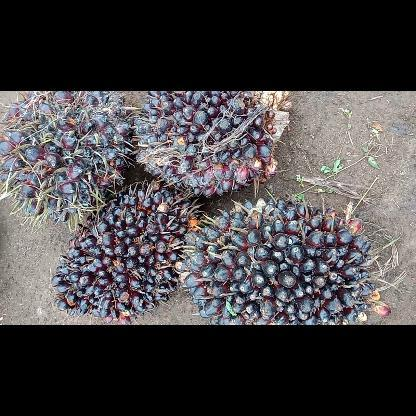TBS mentah: (174, 194, 392, 324), (48, 184, 202, 324), (130, 90, 296, 202), (0, 91, 137, 224)
